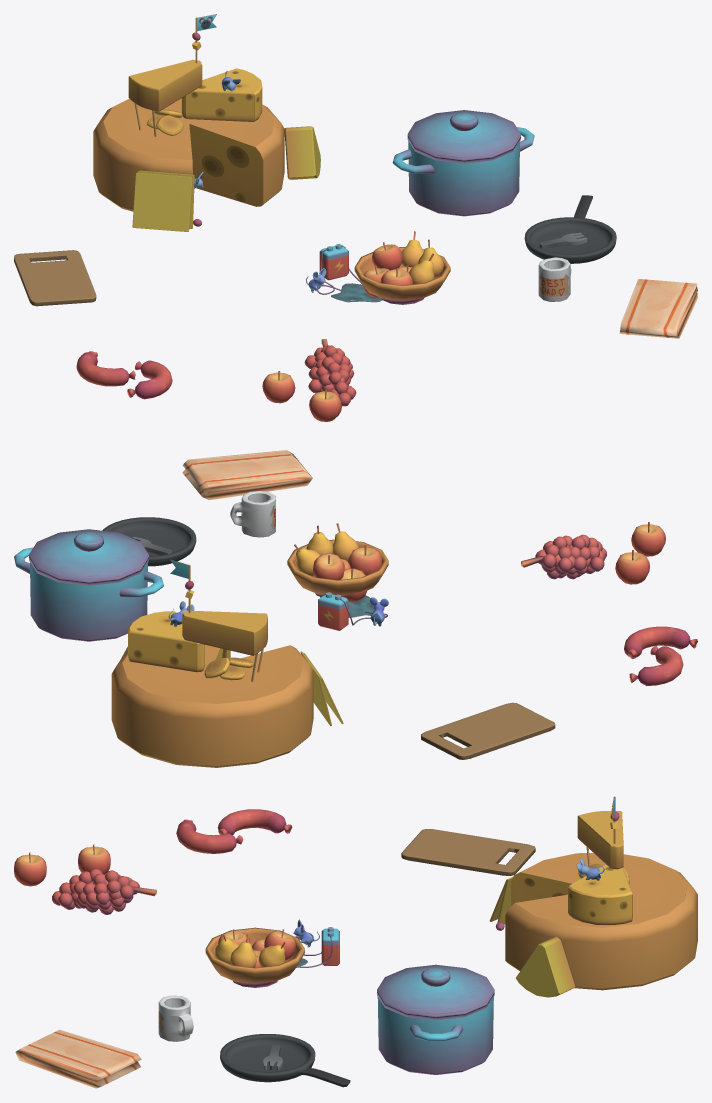
Rendered from layerTwo.obj.
The picture shows the model from 3 angles, top to bottom: view 1: azimuth 30°, elevation 25°; view 2: azimuth 150°, elevation 25°; view 3: azimuth 270°, elevation 25°; orthographic projection. The views are drawn at different scales.
Parts seen in each view (by area): view 1: Cheese_Roll, Pot, PotLid, CuttingBoard, Towel, PanBas, Cheese_Slice_Big, Cheese_Slice1, Cheese_Slice_Top, Grapes, BowlBig, Cheese_Slice_Big1 (+7 smaller); view 2: Cheese_Roll, Pot, PotLid, Towel, CuttingBoard, Cheese_Slice_Big, Cheese_Slice_Top, Grapes, PanBas, BowlBig, Mug, SausageCurved (+9 smaller); view 3: Cheese_Roll, Pot, PotLid, Towel, CuttingBoard, PanBas, Cheese_Slice_Big, Grapes, Cheese_Slice_Big1, BowlBig, Cheese_Slice_Top, Mug (+8 smaller).
Part boxes in pixels (x1,y1,x2,y2): Cheese_Roll: (93,98,284,211); Pot: (392,127,534,216); PotLid: (407,110,520,163); CuttingBoard: (14,250,96,306); Towel: (619,279,697,338); PanBas: (524,195,616,263); Cheese_Slice_Big: (181,68,262,121); Cheese_Slice1: (132,172,192,231); Cheese_Slice_Top: (128,59,202,111); Grapes: (304,339,356,406); BowlBig: (354,247,450,304); Cheese_Slice_Big1: (284,126,320,179); Cheese_Roll: (111,644,313,767); Pot: (14,547,163,641); PotLid: (29,529,148,585); Towel: (182,450,312,500); CuttingBoard: (421,702,555,759); Cheese_Slice_Big: (128,611,204,672); Cheese_Slice_Top: (182,610,267,655); Grapes: (521,534,606,579); PanBas: (102,517,196,566); BowlBig: (287,539,388,596); Mug: (230,490,275,537); SausageCurved: (624,626,697,658); Cheese_Roll: (505,853,697,990); Pot: (377,997,493,1074); PotLid: (377,964,494,1020); Towel: (15,1029,141,1088); CuttingBoard: (401,829,535,875); PanBas: (220,1034,350,1087); Cheese_Slice_Big: (568,864,632,924); Grapes: (52,869,156,914); Cheese_Slice_Big1: (516,937,575,997); BowlBig: (205,927,304,987); Cheese_Slice_Top: (577,811,623,869); Mug: (158,995,193,1041).
Size of the model in its own units: 28.09 by 8.1 by 28.92.
